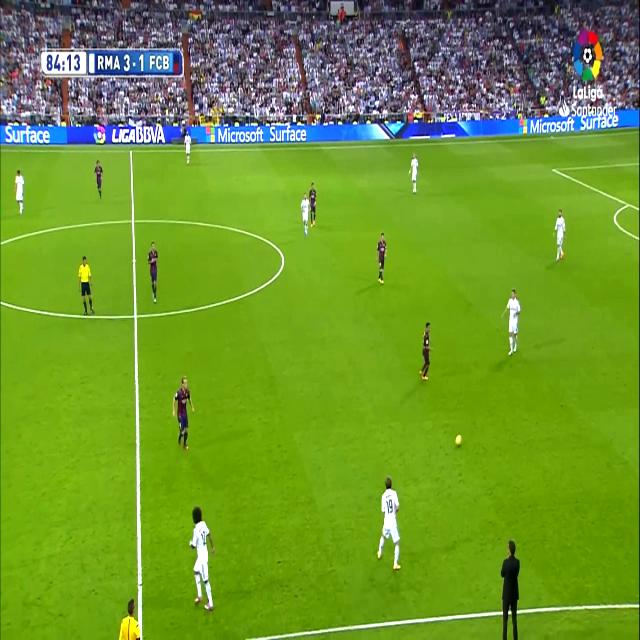halfcircle_bottom: (130, 302, 142, 328)
halfcircle_top: (128, 210, 138, 231)
midline_top_intersection: (128, 145, 134, 157)
top_arc_area_intersection: (624, 197, 631, 210)
